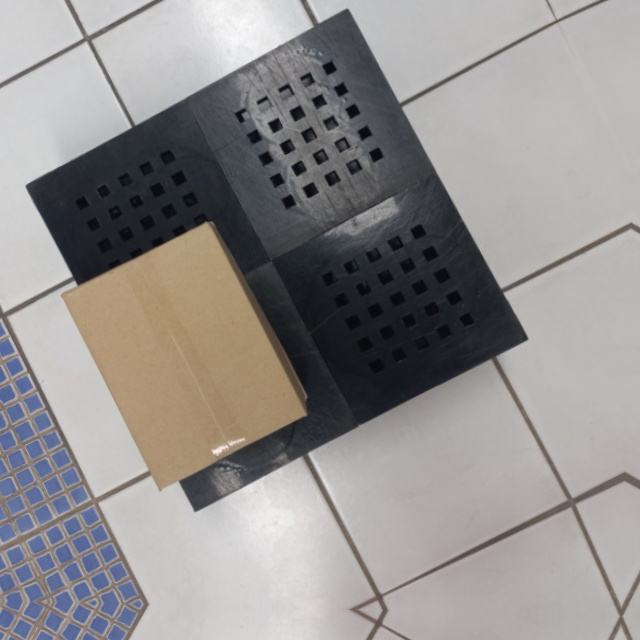box: (62, 217, 306, 496)
pallet: (24, 5, 530, 515)
